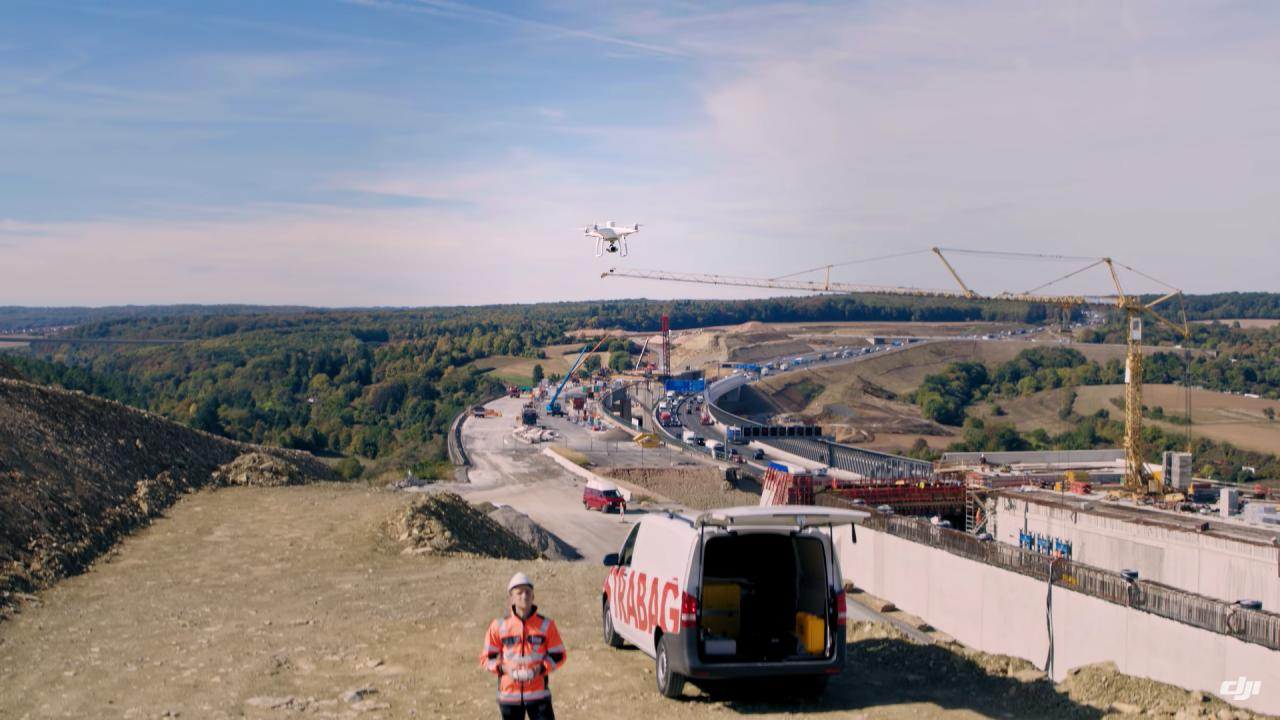Drone: (568, 212, 654, 263)
